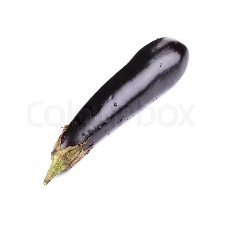eggplant: (49, 37, 192, 172)
